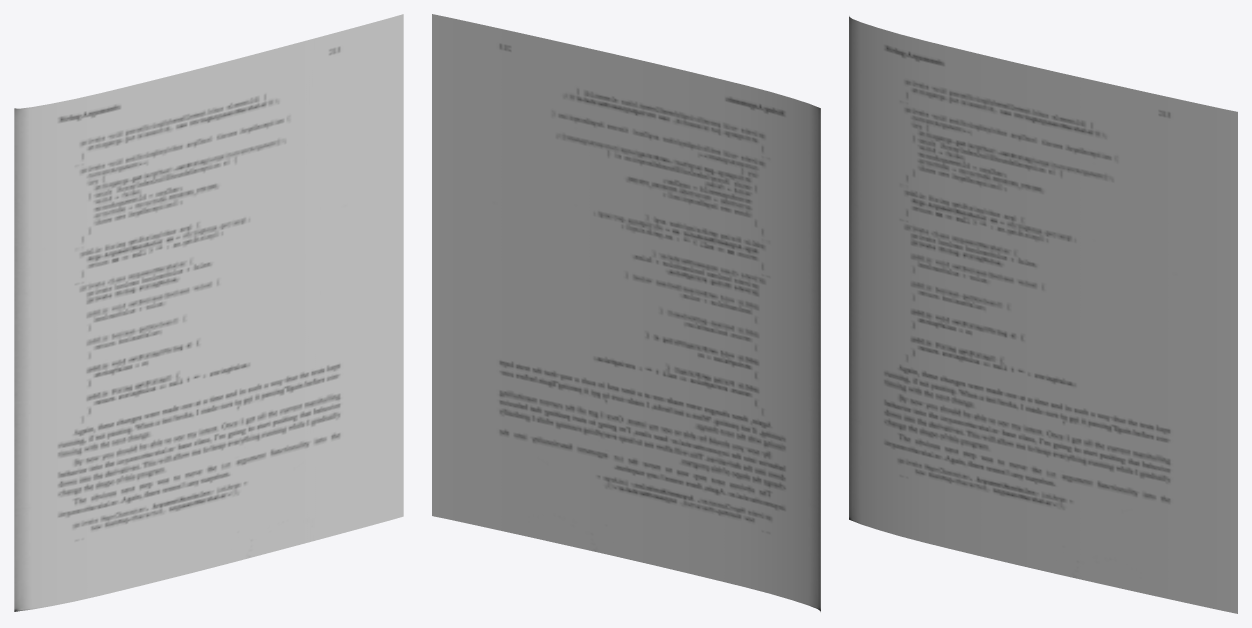
File: MeshBook_10_0_GeomSubset_2.obj
3 views of the same model, side by side, from view 1: azimuth 30°, elevation 25°; view 2: azimuth 150°, elevation 25°; view 3: azimuth 330°, elevation 25° (orthographic).
Parts seen in each view (by area): view 1: MeshBook_10_0_GeomSubset_2; view 2: MeshBook_10_0_GeomSubset_2; view 3: MeshBook_10_0_GeomSubset_2.
Part boxes in pixels (box(x1,y1,x2,y2)): MeshBook_10_0_GeomSubset_2: box(14, 14, 403, 611); MeshBook_10_0_GeomSubset_2: box(432, 14, 820, 611); MeshBook_10_0_GeomSubset_2: box(849, 16, 1237, 613).
Size of the model in its own units: 0.2414 by 0.3011 by 0.00611.
